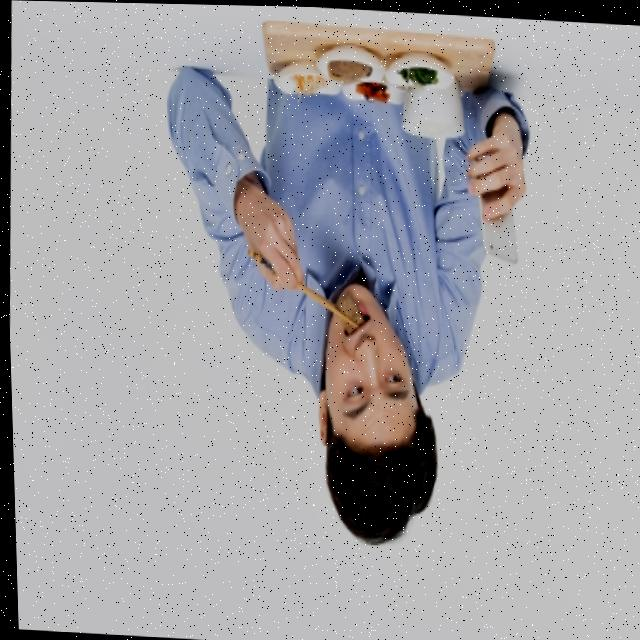eating-person: (139, 2, 543, 568)
